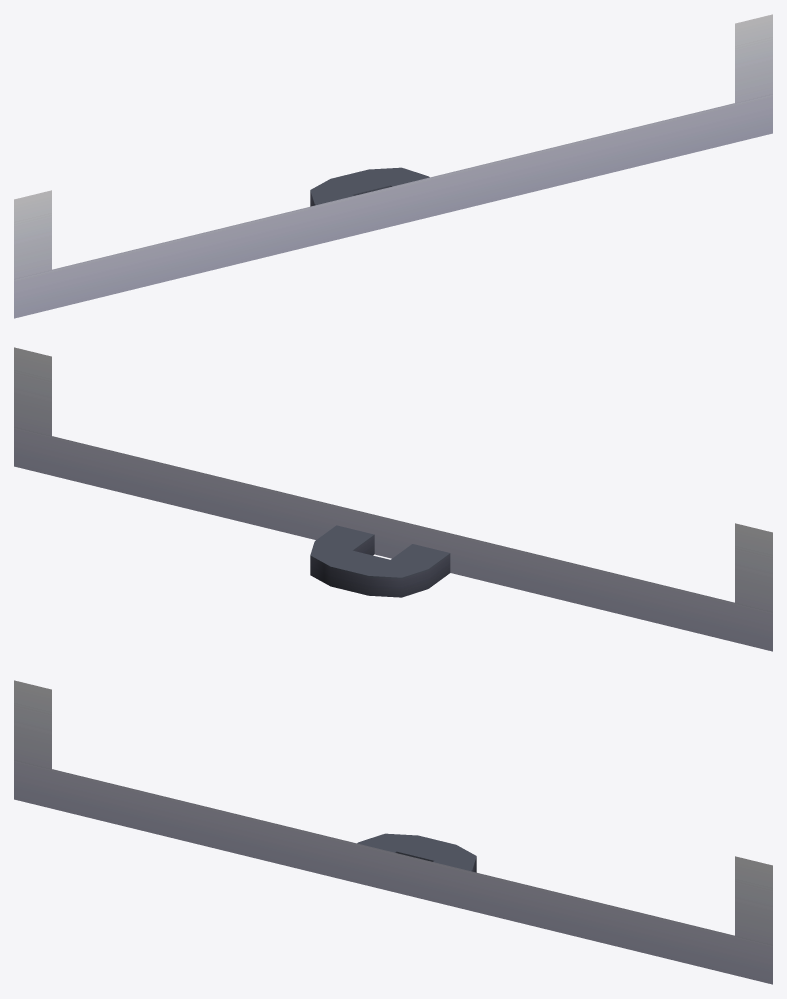
The model's file is track-striped-wide-cap-front.glb.
3 views of the same model, one above another, from view 1: azimuth 30°, elevation 25°; view 2: azimuth 150°, elevation 25°; view 3: azimuth 330°, elevation 25° (orthographic).
Parts seen in each view (by area): view 1: track-striped-wide-cap-front; view 2: track-striped-wide-cap-front; view 3: track-striped-wide-cap-front.
Boxes of the visible parts, x1=… form: track-striped-wide-cap-front: x1=14, y1=14, x2=772, y2=318; track-striped-wide-cap-front: x1=14, y1=347, x2=772, y2=651; track-striped-wide-cap-front: x1=14, y1=680, x2=772, y2=984.
Bounding box in the file's own units: 2 × 0.3001 × 0.2.
1 material, 1 textured.
